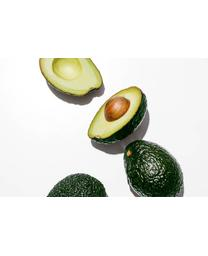avocado: (87, 86, 148, 145), (123, 139, 185, 197), (37, 59, 104, 98), (46, 172, 108, 198)
